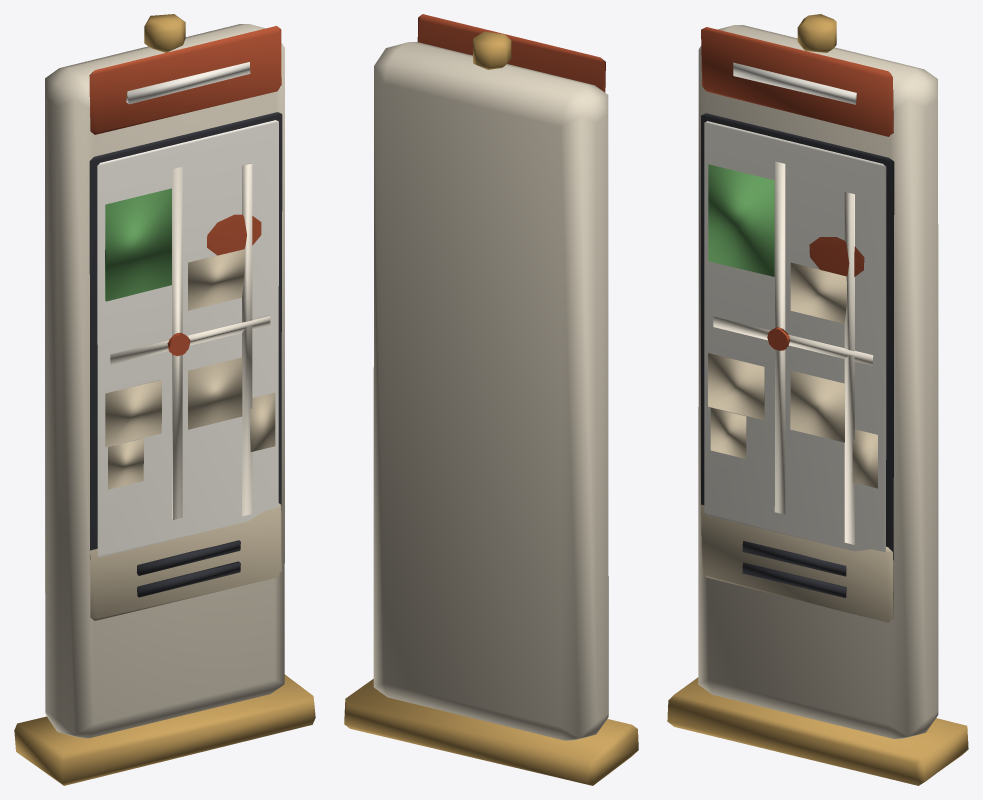
The model's file is lod_city_map_totem.glb.
3 views of the same model, side by side, from view 1: azimuth 30°, elevation 25°; view 2: azimuth 150°, elevation 25°; view 3: azimuth 330°, elevation 25° (orthographic). The views are drawn at different scales.
Parts seen in each view (by area): view 1: city_map_totem; view 2: city_map_totem; view 3: city_map_totem.
Boxes of the visible parts, left/top/right/bottom form: city_map_totem: left=14, top=14, right=315, bottom=785; city_map_totem: left=344, top=14, right=638, bottom=785; city_map_totem: left=667, top=14, right=968, bottom=785.
Size of the model in its own units: 1 by 2.67 by 0.3575.
